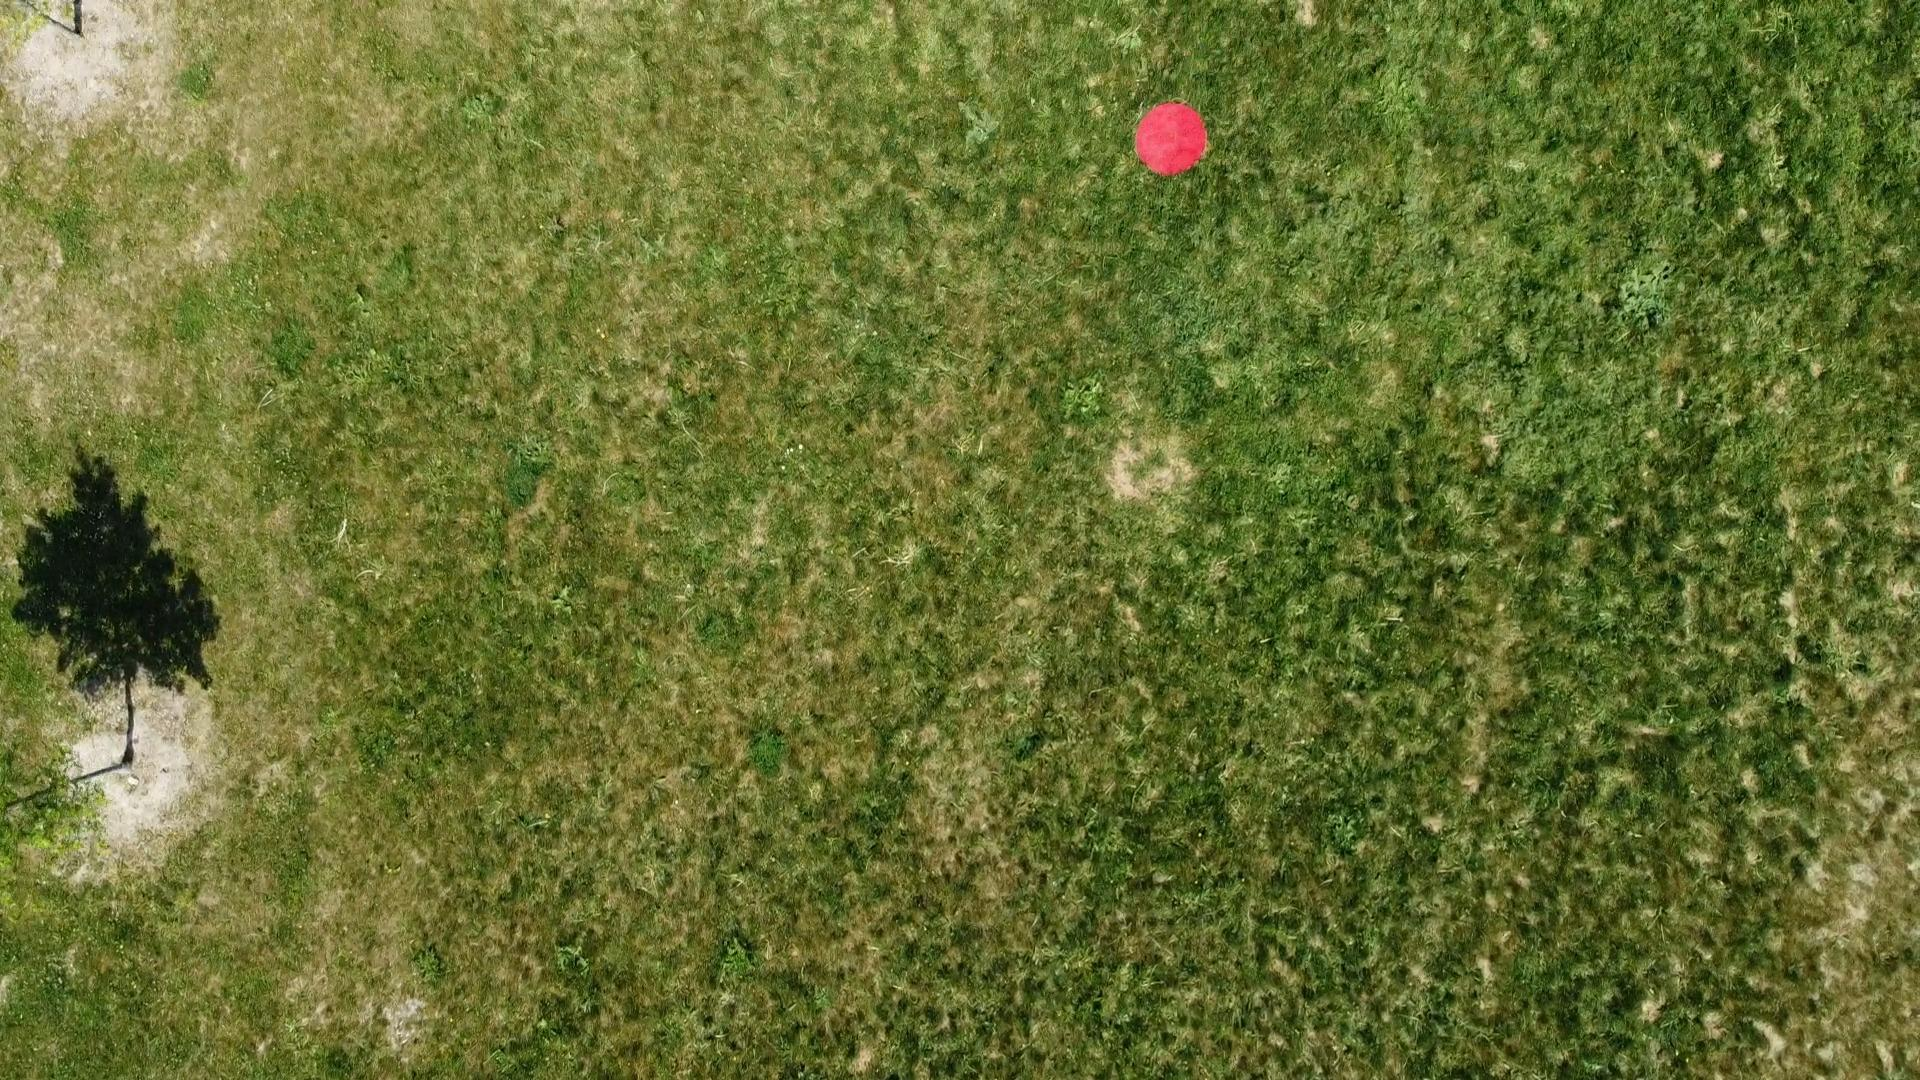Red: (1133, 100, 1212, 179)
